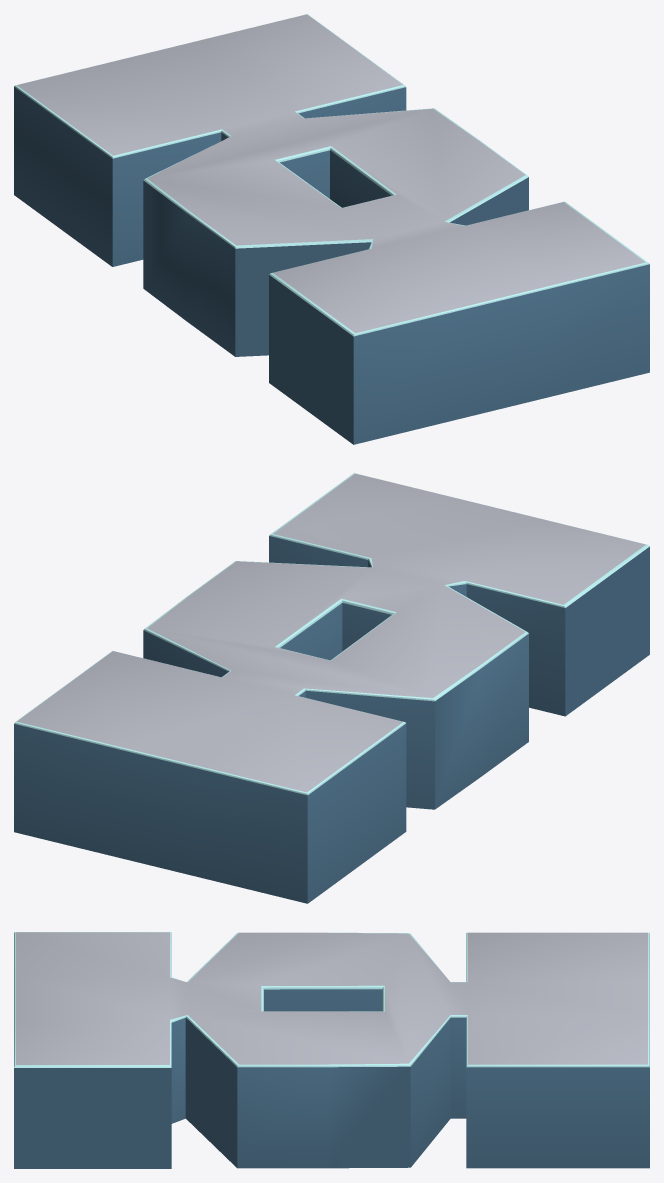
File: Lvl8.fbx
3 renders of one model, top to bottom at view 1: azimuth 30°, elevation 25°; view 2: azimuth 150°, elevation 25°; view 3: azimuth 270°, elevation 25°, orthographic. The views are drawn at different scales.
Parts seen in each view (by area): view 1: lvl8; view 2: lvl8; view 3: lvl8.
Boxes of the visible parts, x1,y1,x2,y2 form: lvl8: (14,14,649,444); lvl8: (14,473,649,903); lvl8: (14,932,649,1168).
Bounding box in the file's own units: 4001 × 1421 × 7971.
